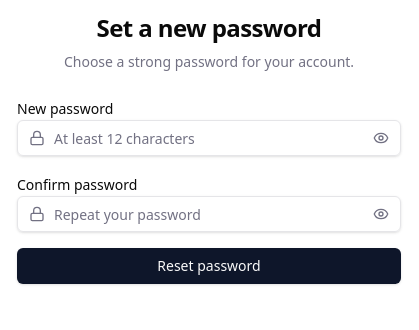
Test: ResetPasswordForm › shows error when passwords do not match
Type "longpassword123" into the password field labelled "New password" at (209, 138), box [17,120,401,156]
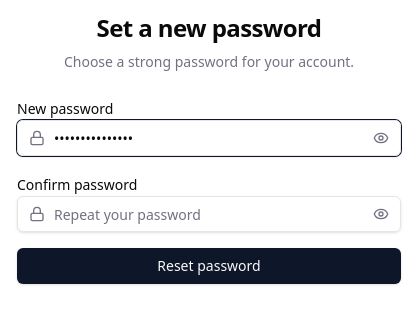
Type "differentpassword123" into the password field labelled "Confirm password" at (209, 214), box [17,196,401,232]
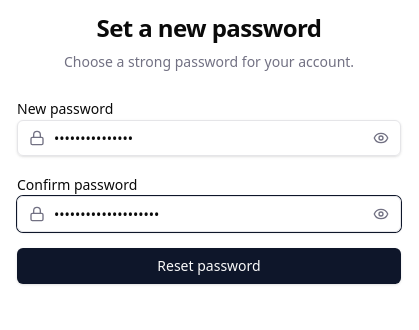
Click the button "Reset password" at (209, 266), box [17,248,401,284]
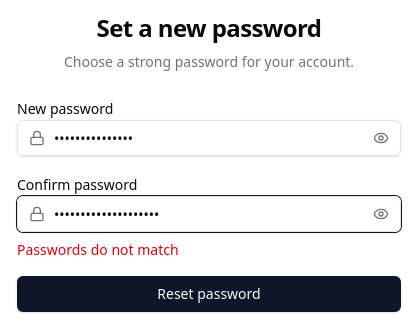
Expected: the text "Passwords do not match" is shown, [17,240,179,259]
